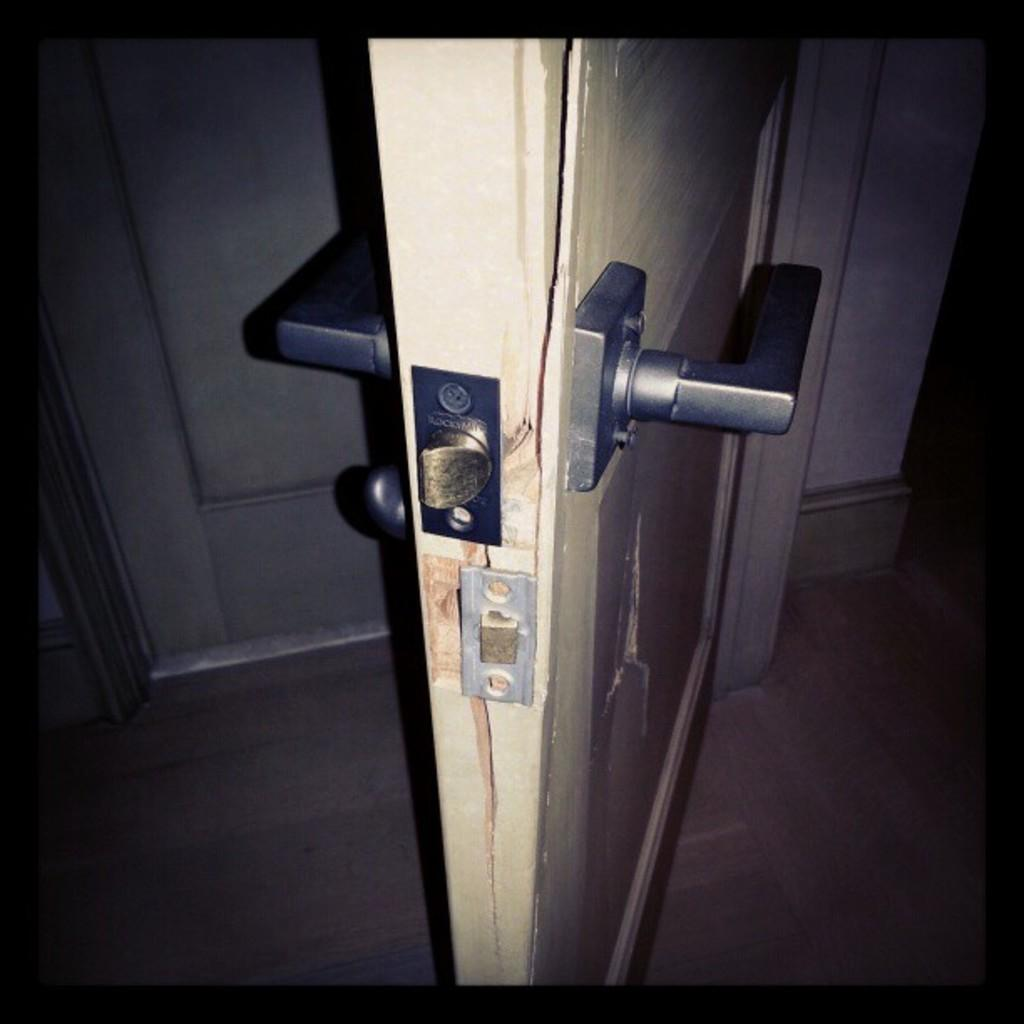handle: (630, 226, 828, 481), (284, 244, 403, 406), (370, 458, 430, 553)
